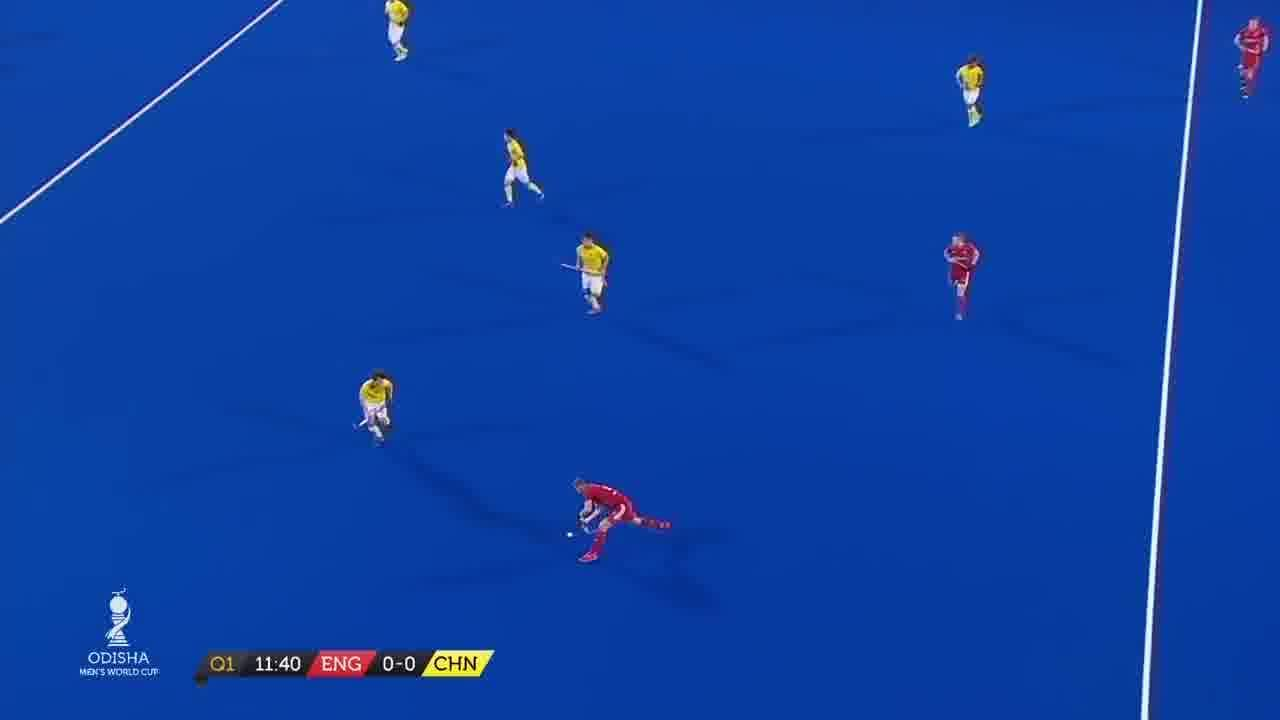ball: (557, 526, 576, 544)
